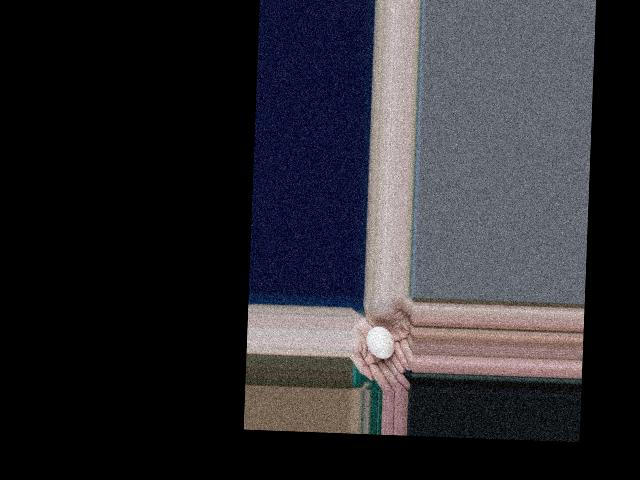egg: (366, 326, 394, 359)
